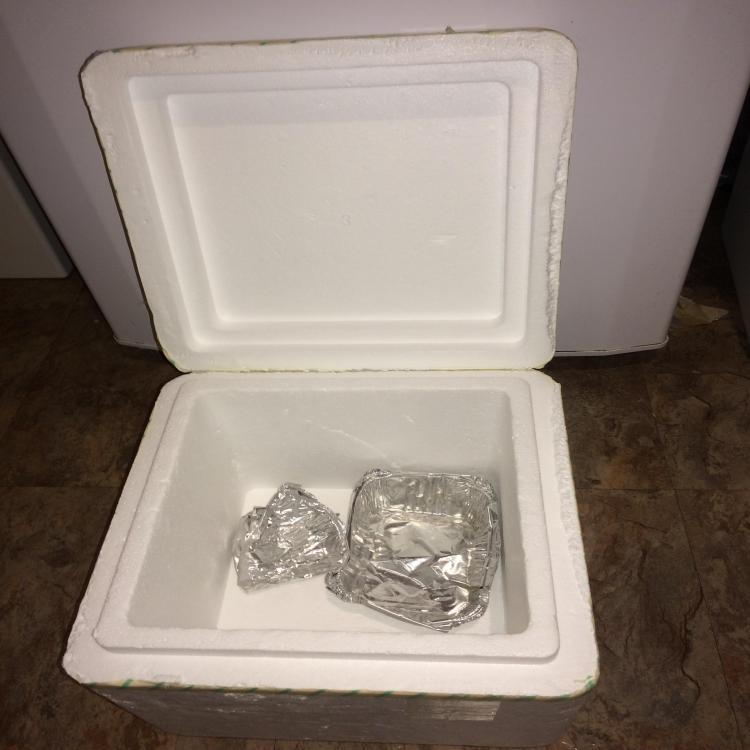Aluminium foil: (316, 469, 502, 633), (232, 482, 346, 594)
Styrofoam piece: (61, 29, 600, 746)
